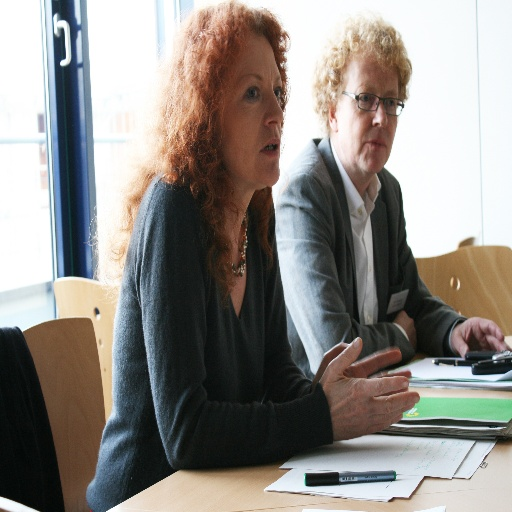hand: (319, 336, 422, 440), (314, 336, 411, 392), (451, 315, 510, 357), (393, 311, 418, 352)
